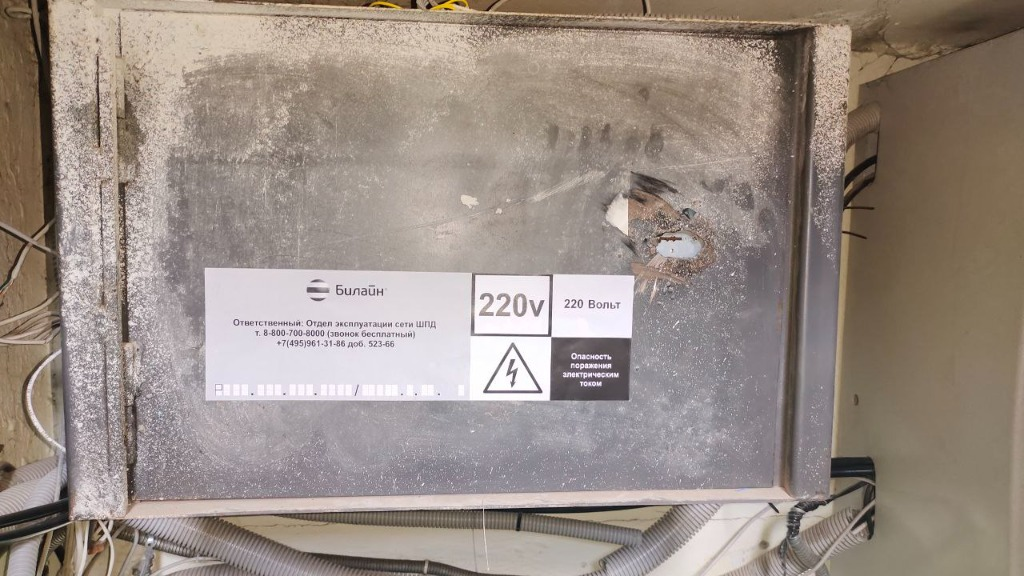e2-6u: (39, 4, 856, 527)
